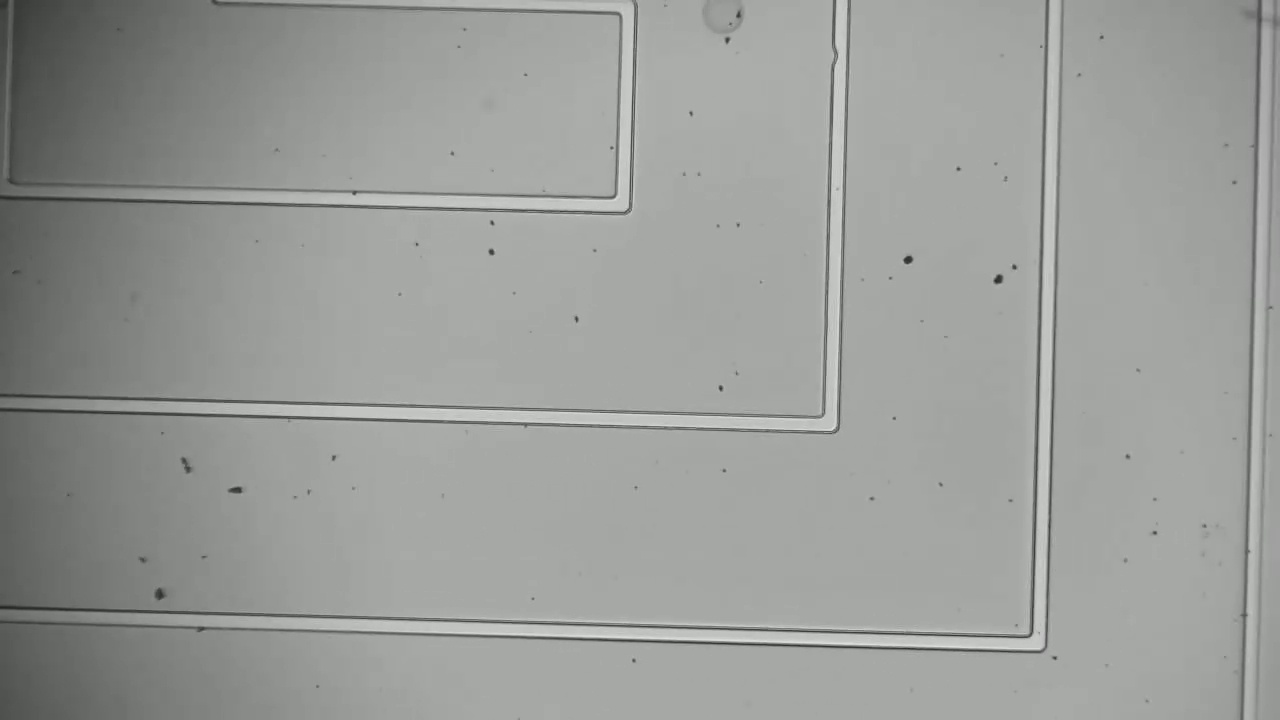edge_bite: (819, 34, 863, 75)
